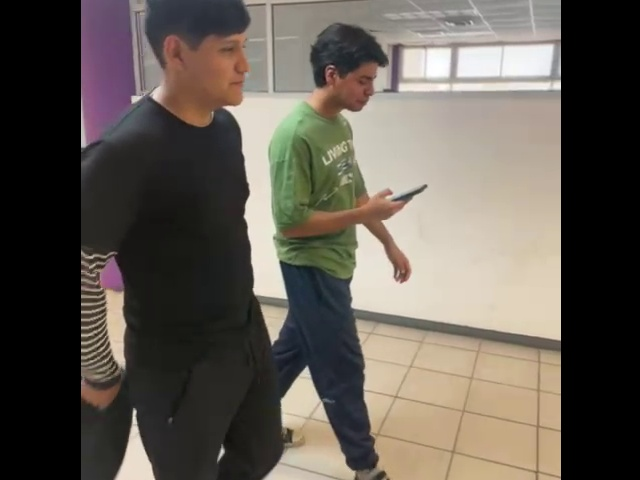mixto2: (392, 181, 431, 207)
